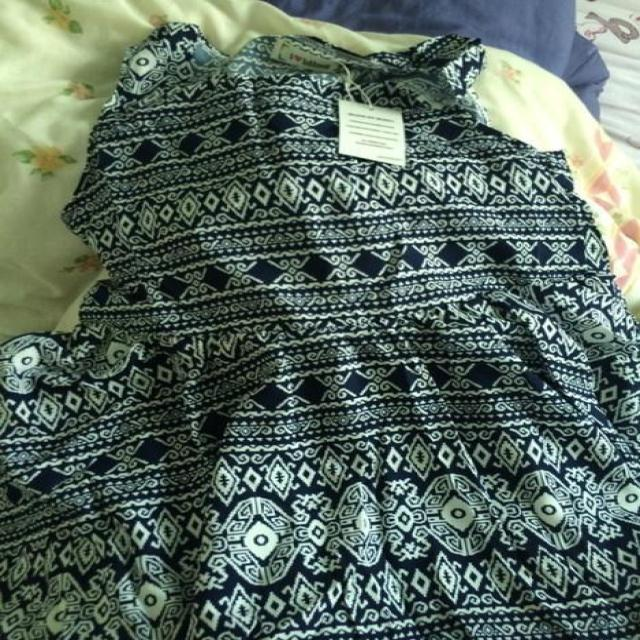vest dress: (3, 22, 639, 639)
